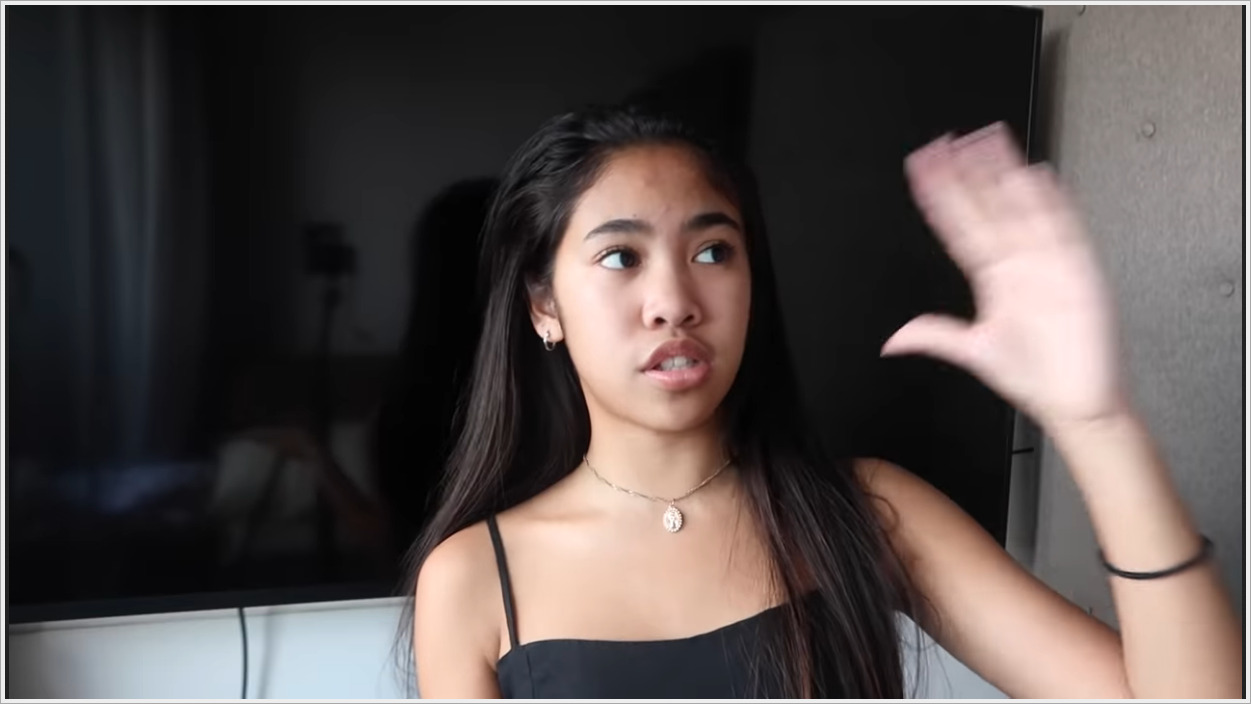hand: (881, 124, 1150, 428)
